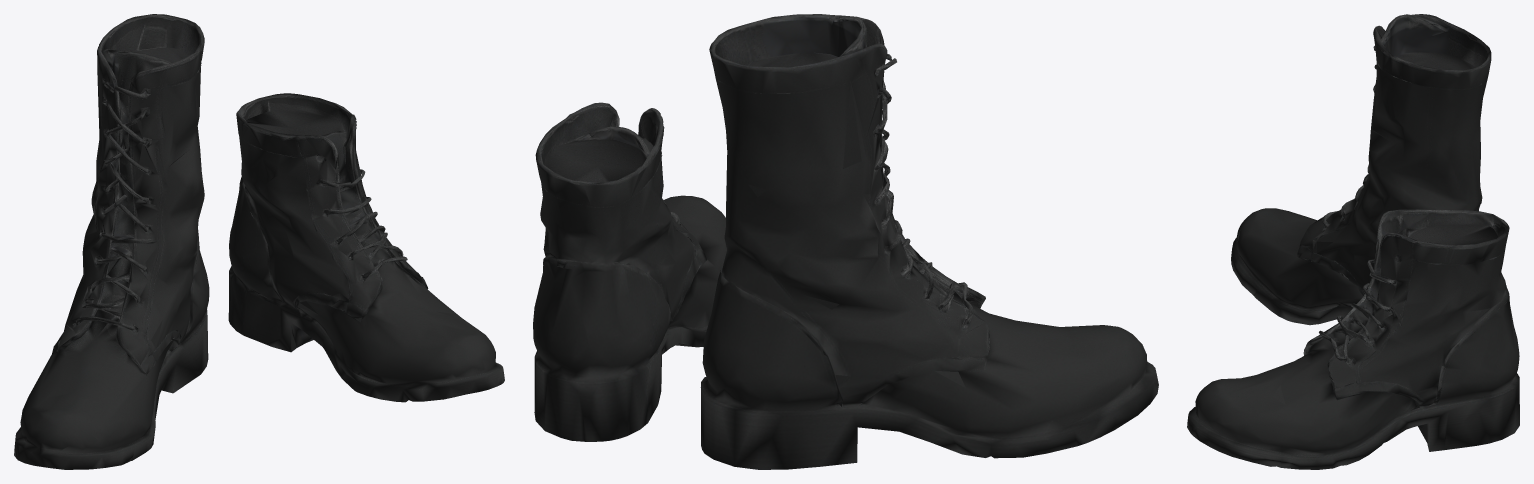
The model's file is boots_02.glb.
3 renders of one model, left to right at view 1: azimuth 30°, elevation 25°; view 2: azimuth 150°, elevation 25°; view 3: azimuth 270°, elevation 25°, orthographic. The views are drawn at different scales.
Visible parts, largest first — view 1: mesh_node; view 2: mesh_node; view 3: mesh_node.
Part boxes in pixels (x1=…): mesh_node: x1=14, y1=14, x2=504, y2=469; mesh_node: x1=533, y1=14, x2=1158, y2=469; mesh_node: x1=1187, y1=14, x2=1519, y2=469.
Bounding box in the file's own units: 0.4204 × 0.3 × 0.2788.
1 material, 1 textured.
